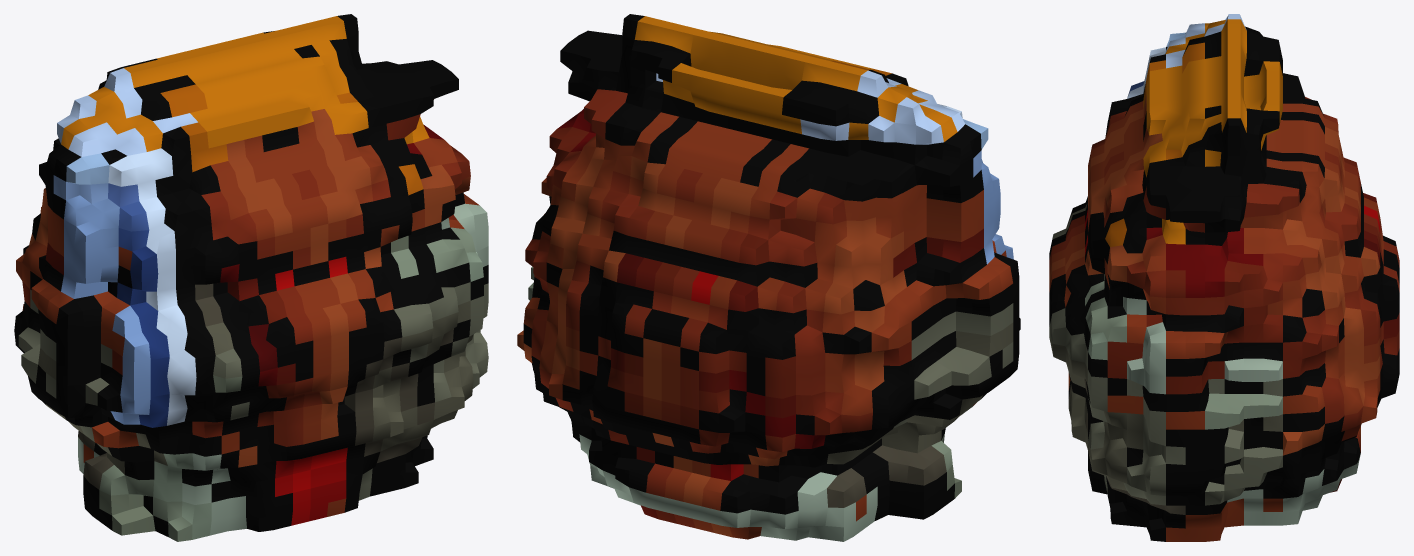
File: Icon_115_02.obj
3 renders of one model, left to right at view 1: azimuth 30°, elevation 25°; view 2: azimuth 150°, elevation 25°; view 3: azimuth 270°, elevation 25°, orthographic. The views are drawn at different scales.
Size of the model in its own units: 2.4 by 2.28 by 1.8.
